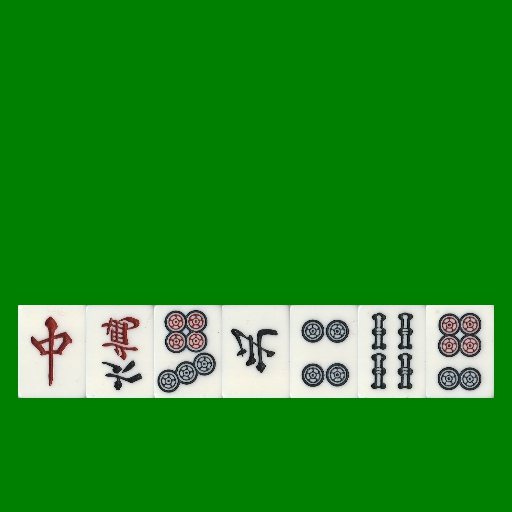4p: (290, 305, 358, 398)
4s: (358, 305, 426, 398)
6m: (86, 305, 154, 398)
6p: (426, 305, 494, 398)
7p: (154, 305, 222, 398)
north: (222, 305, 290, 398)
tyun: (18, 305, 86, 398)
